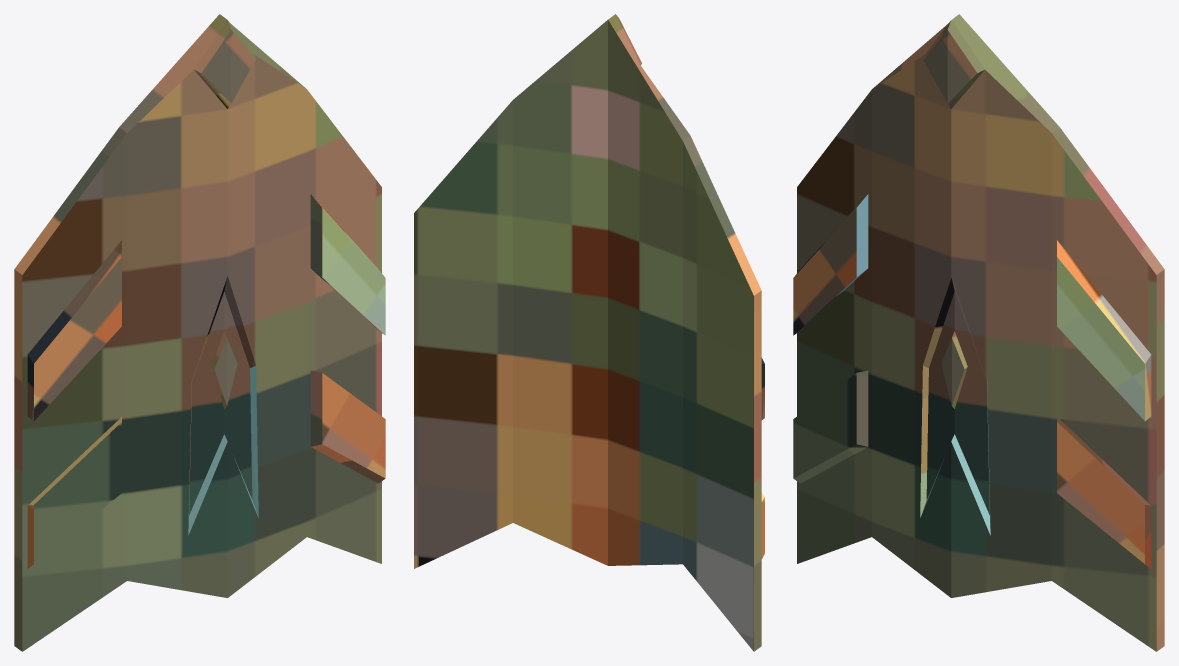
The model's file is shield.fbx.
The picture shows the model from 3 angles, left to right: view 1: azimuth 30°, elevation 25°; view 2: azimuth 150°, elevation 25°; view 3: azimuth 330°, elevation 25°; orthographic projection. The views are drawn at different scales.
Visible parts, largest first — view 1: Shield; view 2: Shield; view 3: Shield.
Boxes of the visible parts, x1,y1,x2,y2 form: Shield: (14,14,385,651); Shield: (414,14,764,651); Shield: (793,14,1164,651).
Size of the model in its own units: 42.29 by 68.17 by 7.57.
